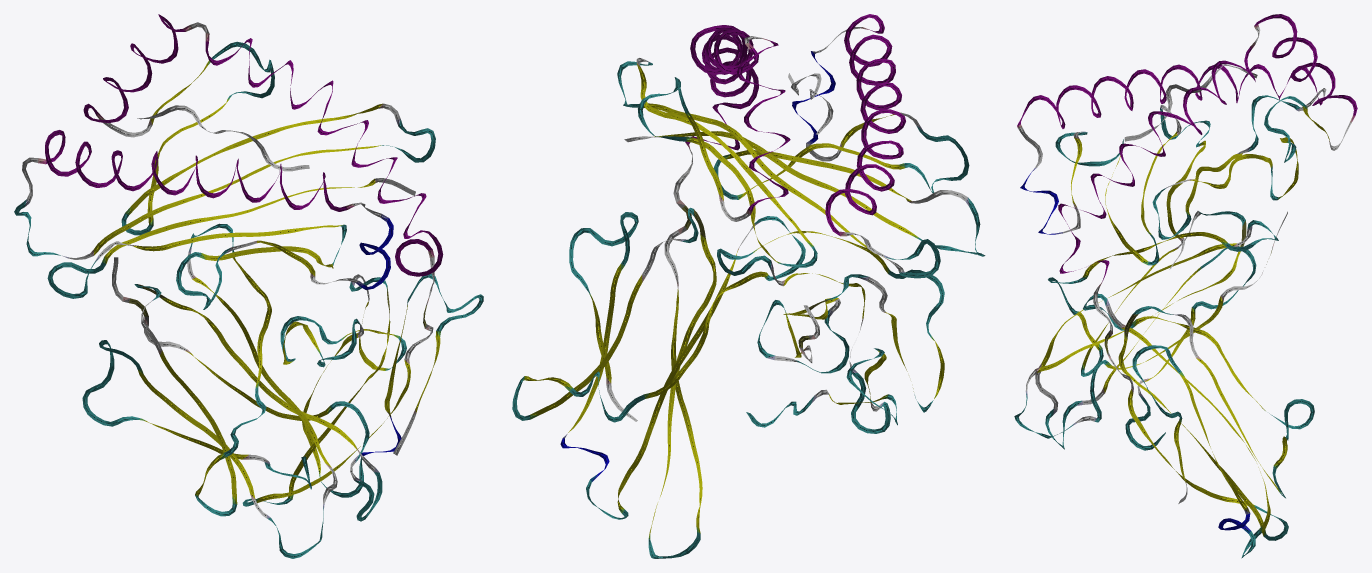
File: 2vaa-ribbon-2.obj
3 renders of one model, left to right at view 1: azimuth 30°, elevation 25°; view 2: azimuth 150°, elevation 25°; view 3: azimuth 270°, elevation 25°, orthographic. The views are drawn at different scales.
Parts seen in each view (by area): view 1: vmd_mol0_rep0; view 2: vmd_mol0_rep0; view 3: vmd_mol0_rep0.
Boxes of the visible parts, bbox=[...] form: vmd_mol0_rep0: bbox=[14, 14, 483, 558]; vmd_mol0_rep0: bbox=[512, 14, 985, 558]; vmd_mol0_rep0: bbox=[1014, 14, 1357, 558].
Bounding box in the file's own units: 2.47 × 2.94 × 1.93.
